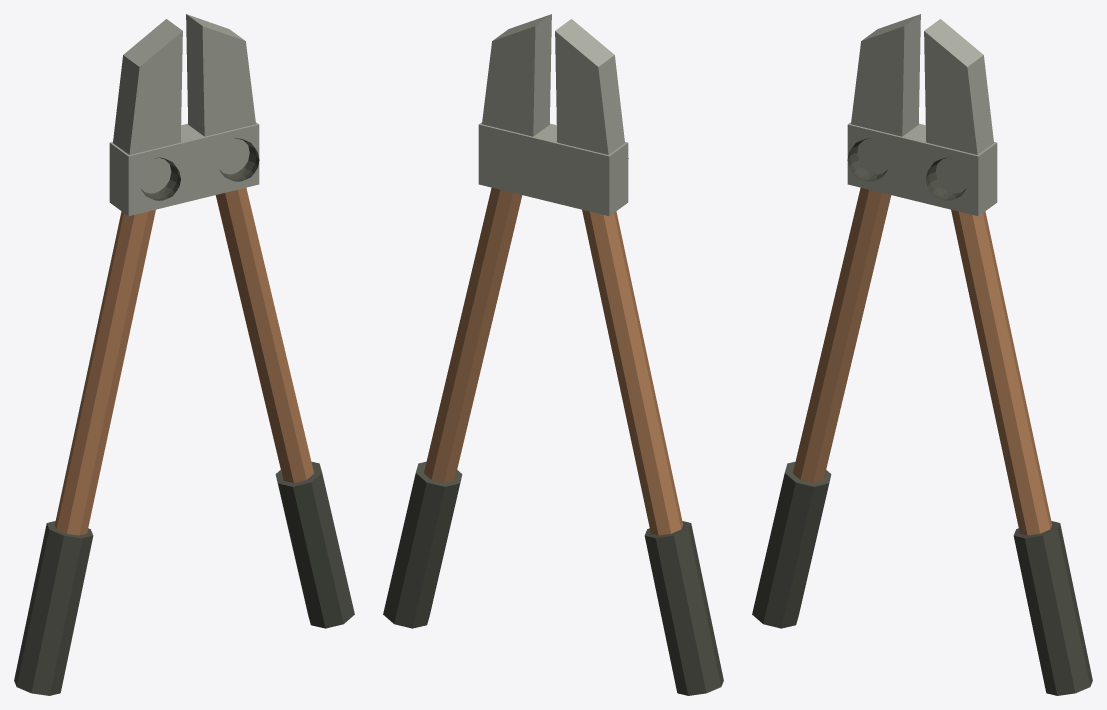
File: reclamation-yard-long-handle-bolt-cutters__231.glb
3 views of the same model, side by side, from view 1: azimuth 30°, elevation 25°; view 2: azimuth 150°, elevation 25°; view 3: azimuth 330°, elevation 25° (orthographic).
Parts seen in each view (by area): view 1: metal, accent, dark; view 2: metal, accent, dark; view 3: metal, accent, dark.
Part boxes in pixels (left/top/right/bottom): metal: left=109, top=14, right=259, bottom=216; accent: left=55, top=188, right=313, bottom=535; dark: left=14, top=138, right=354, bottom=695; metal: left=478, top=14, right=628, bottom=216; accent: left=424, top=188, right=682, bottom=535; dark: left=383, top=158, right=723, bottom=695; metal: left=847, top=14, right=997, bottom=216; accent: left=793, top=188, right=1051, bottom=535; dark: left=752, top=138, right=1092, bottom=695.
Bounding box in the file's own units: 0.4107 × 0.7408 × 0.079.
